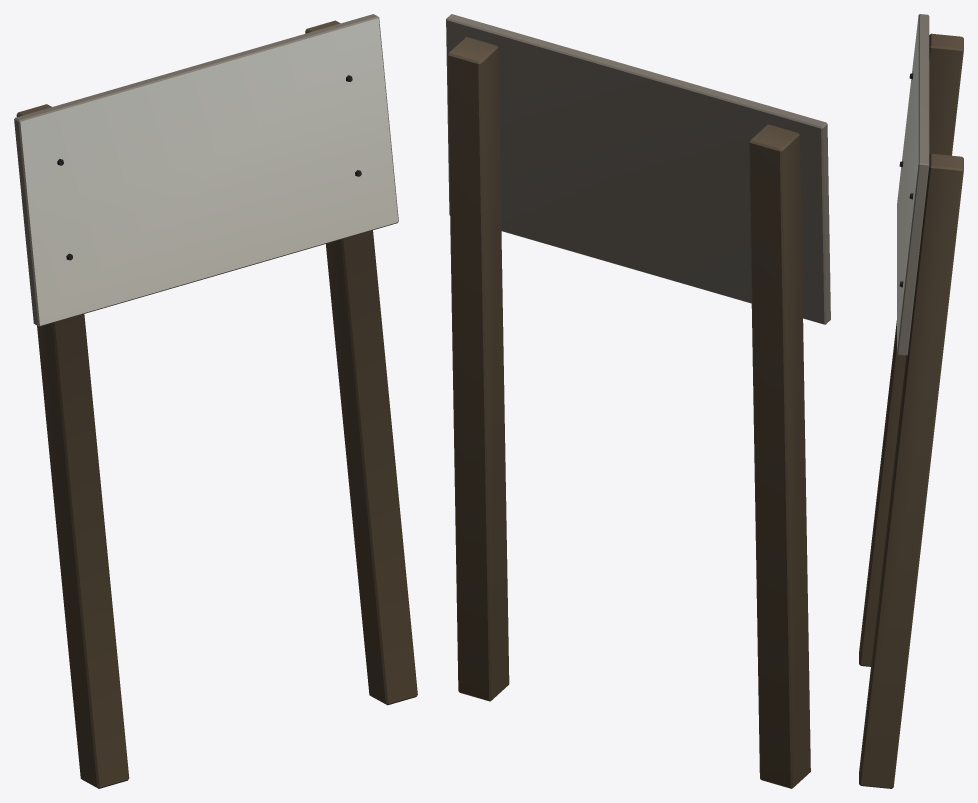
File: cave_warning_board_blank.glb
The picture shows the model from 3 angles, left to right: view 1: azimuth 30°, elevation 25°; view 2: azimuth 150°, elevation 25°; view 3: azimuth 270°, elevation 25°; orthographic projection. The views are drawn at different scales.
Visible parts, largest first — view 1: cave_warning_board_blank_LOD0; view 2: cave_warning_board_blank_LOD0; view 3: cave_warning_board_blank_LOD0.
Part boxes in pixels (left/top/right/bottom): cave_warning_board_blank_LOD0: left=14, top=14, right=417, bottom=788; cave_warning_board_blank_LOD0: left=446, top=14, right=830, bottom=788; cave_warning_board_blank_LOD0: left=859, top=14, right=963, bottom=788.
Size of what is drawn, in the model's own units: 0.9198 by 1.61 by 0.2407.
